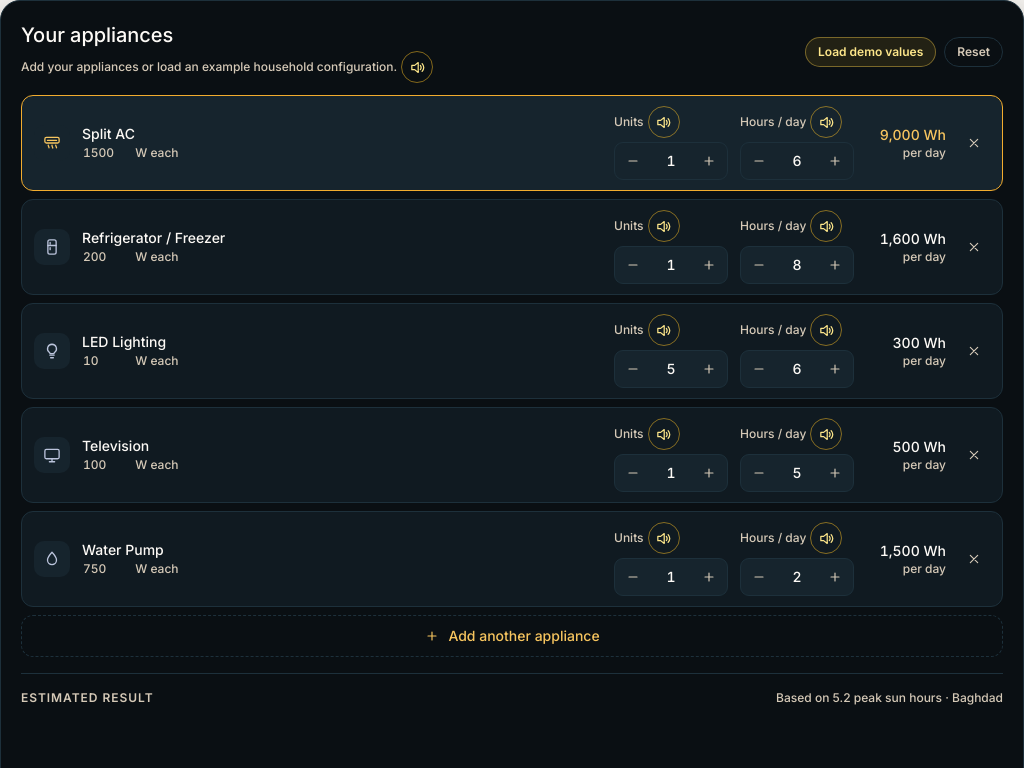
Scenario: SolarCalculator quote handoff › lists standard appliances at zero after reset and calculates immediately when a unit is activated
What coordinates should you click on to do the following:
click the button "Reset"
I would click on:
 (974, 52)
Its box is [944,37,1003,67].
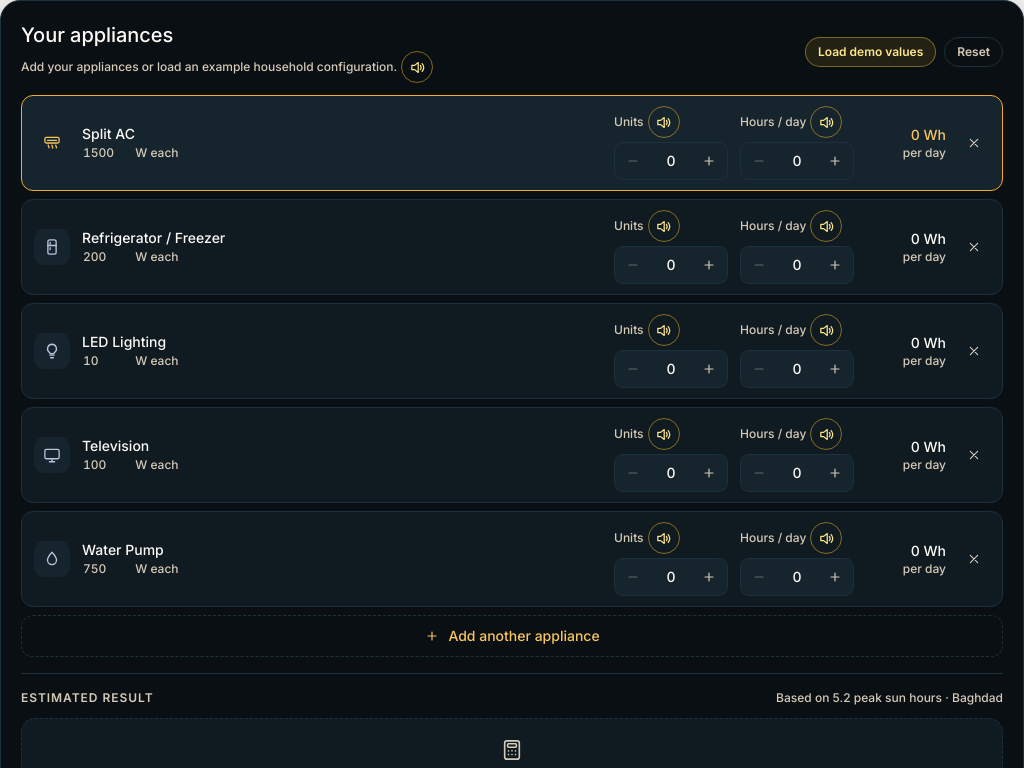
Expected: the button "Split AC" is shown, [82,124,135,144]
Expected: the button "Refrigerator / Freezer" is shown, [82,228,225,248]
What coordinates should you click on to do the following:
click the button named "Increase Split AC units"
I would click on:
 (709, 161)
Its box is [691,143,727,179].
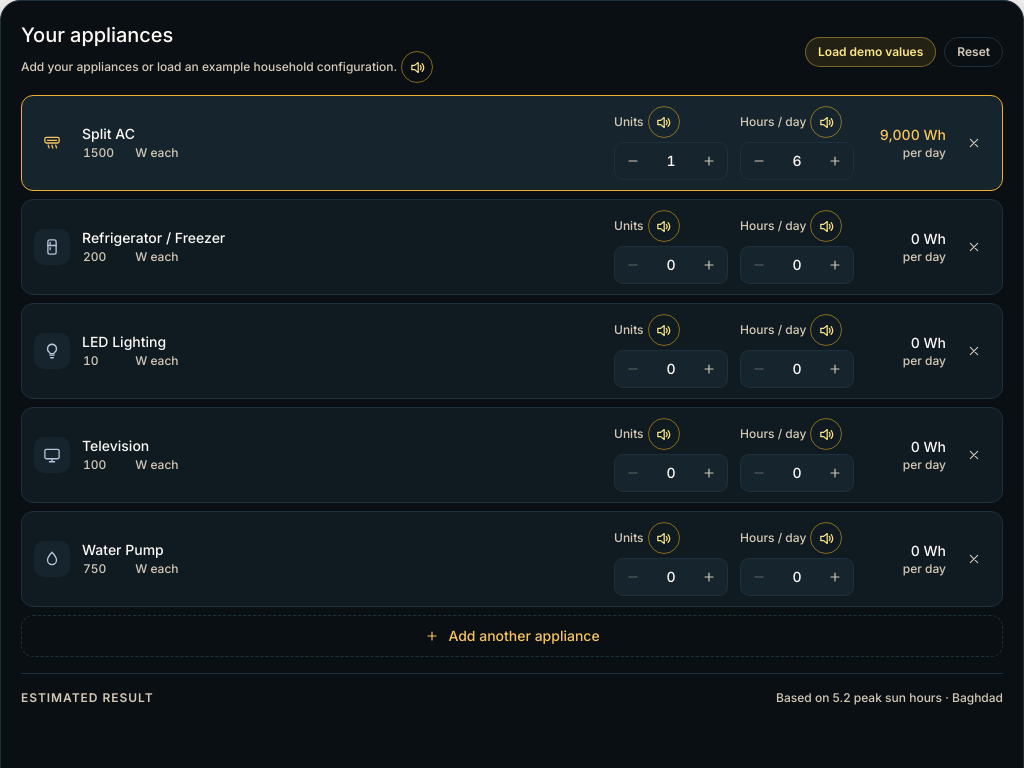
Result: the text "9,000 Wh" is shown at [880,126,946,143]
What coordinates should you click on to do the following:
click the button "Add another appliance"
I would click on:
 (512, 636)
Its box is [21,615,1003,657].
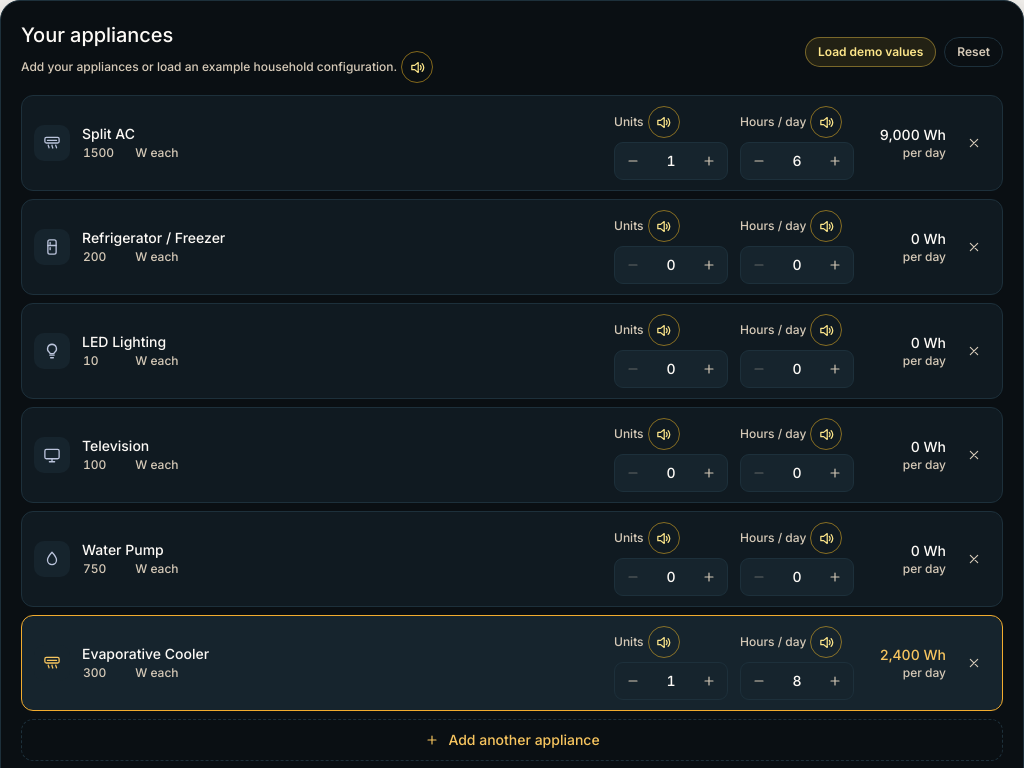
Result: the button "Evaporative Cooler" is shown at [82,644,209,664]
Result: the text "2,400 Wh" is shown at [880,646,946,663]
What coordinates should you click on to do the following:
click the button named "Decrease Evaporative Cooler units"
I would click on:
 (633, 681)
Its box is [615,663,651,699].
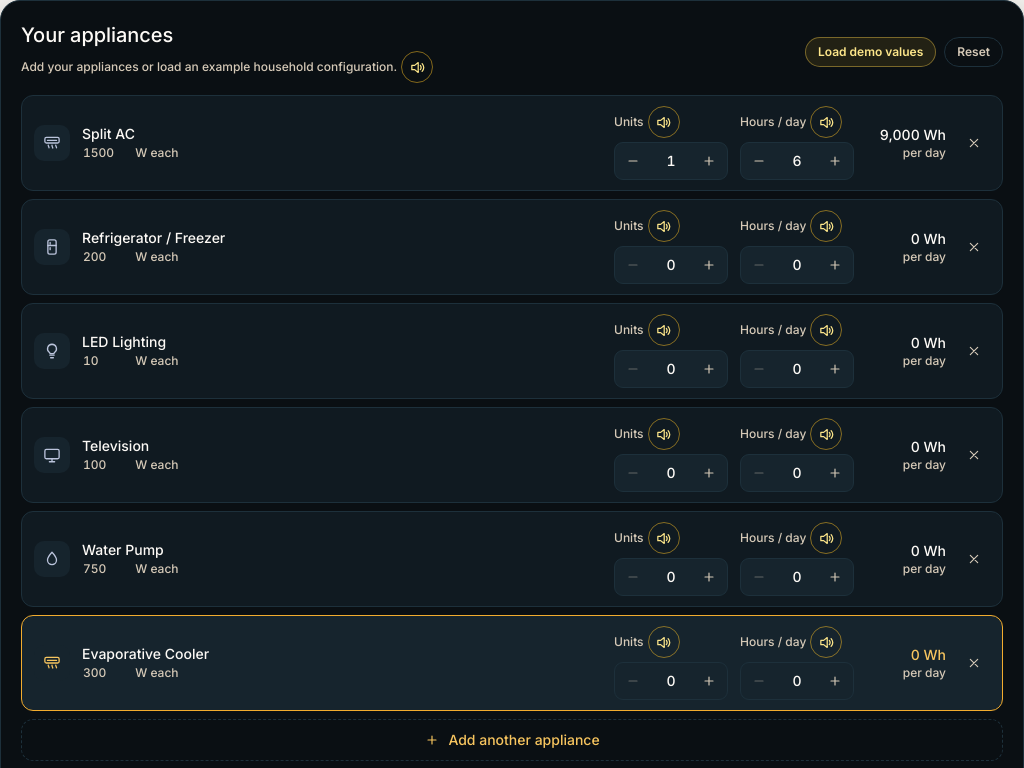
Expected: the 5th text "2,400 Wh" is shown, [911,646,946,663]
What coordinates should you click on to do the following:
click the button named "Remove Evaporative Cooler"
I would click on:
 (974, 663)
Its box is [958,647,990,679].
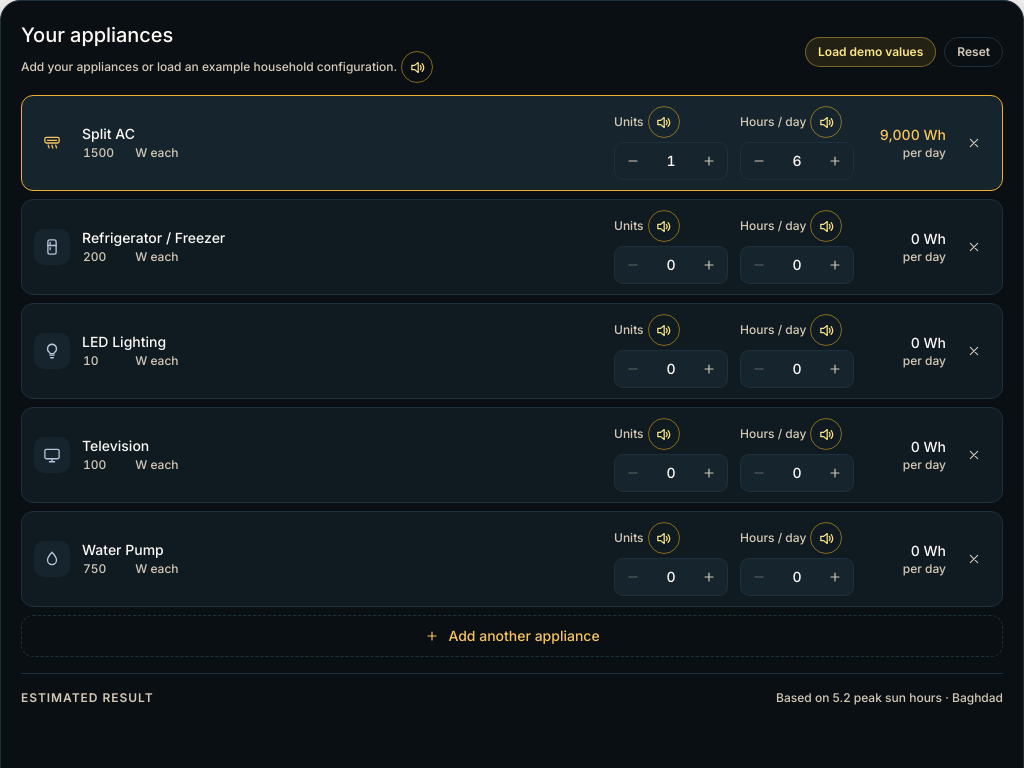
Result: the button "Evaporative Cooler" is gone
What coordinates should you click on to do the following:
click the button "Add another appliance"
I would click on:
 (512, 636)
Its box is [21,615,1003,657].
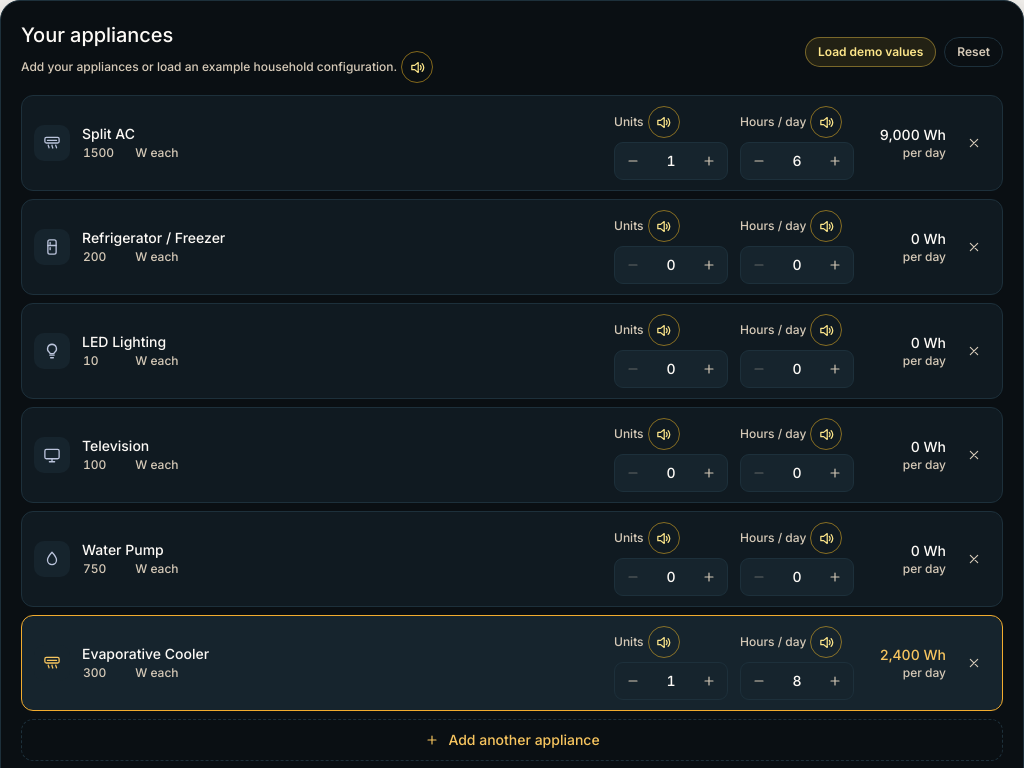
Result: the button "Evaporative Cooler" is shown at [82,644,209,664]
